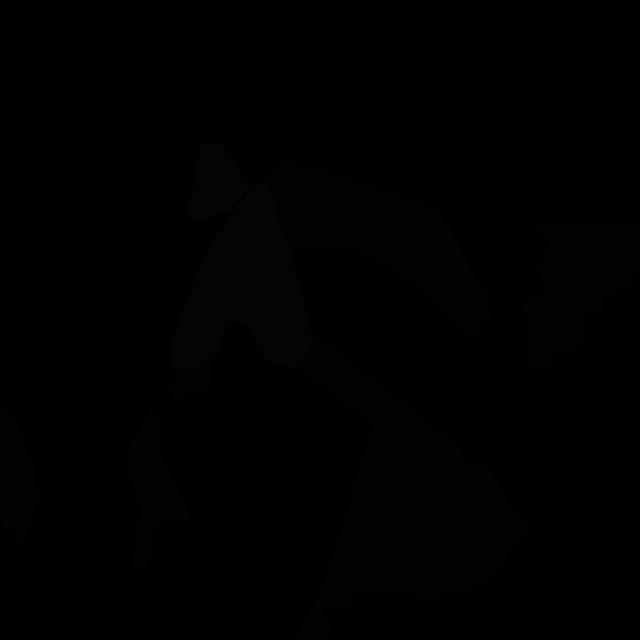cardboard: (294, 326, 529, 640), (264, 156, 492, 346), (519, 224, 640, 373), (127, 406, 192, 573), (0, 396, 38, 549), (168, 361, 212, 406)
soft_plastic: (170, 178, 313, 374), (189, 142, 250, 221)
